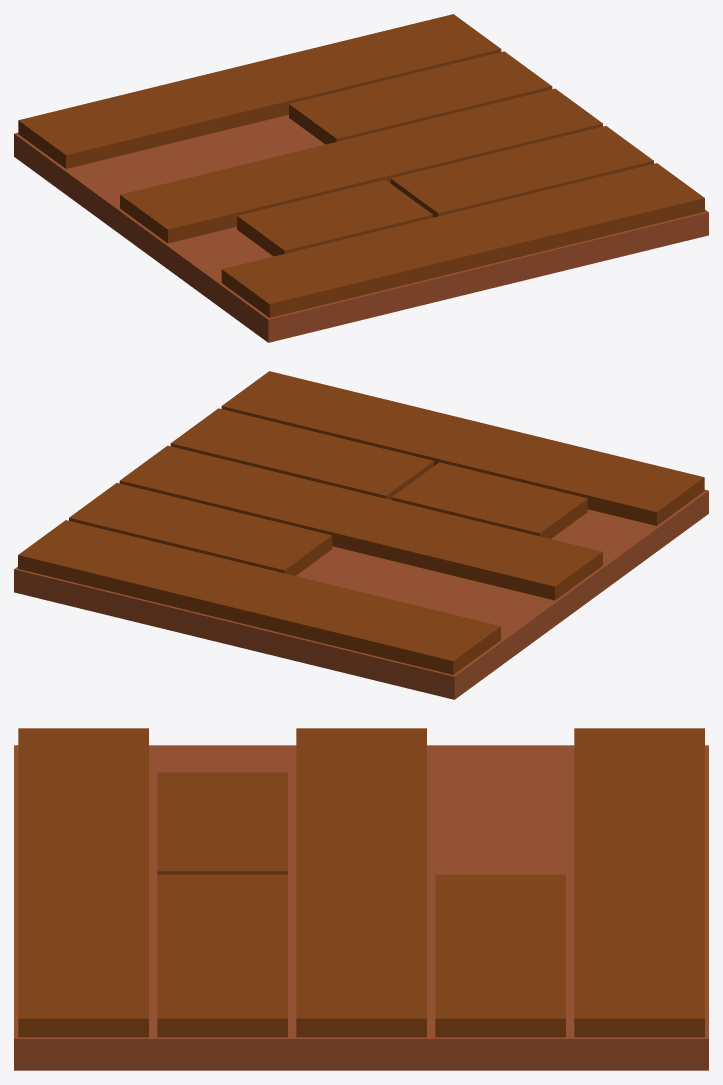
Rendered from Prop_Tile_Terrain_Dungeon_Timber_Panel_08.FBX.
3 renders of one model, top to bottom at view 1: azimuth 30°, elevation 25°; view 2: azimuth 150°, elevation 25°; view 3: azimuth 270°, elevation 25°, orthographic. The views are drawn at different scales.
Parts seen in each view (by area): view 1: Prop_Tile_Terrain_Dungeon_Timber_Panel_08; view 2: Prop_Tile_Terrain_Dungeon_Timber_Panel_08; view 3: Prop_Tile_Terrain_Dungeon_Timber_Panel_08.
Boxes of the visible parts, bbox=[...] form: Prop_Tile_Terrain_Dungeon_Timber_Panel_08: bbox=[14, 14, 708, 342]; Prop_Tile_Terrain_Dungeon_Timber_Panel_08: bbox=[14, 371, 708, 699]; Prop_Tile_Terrain_Dungeon_Timber_Panel_08: bbox=[14, 728, 708, 1070].
Bounding box in the file's own units: 3000 × 240 × 3000.
